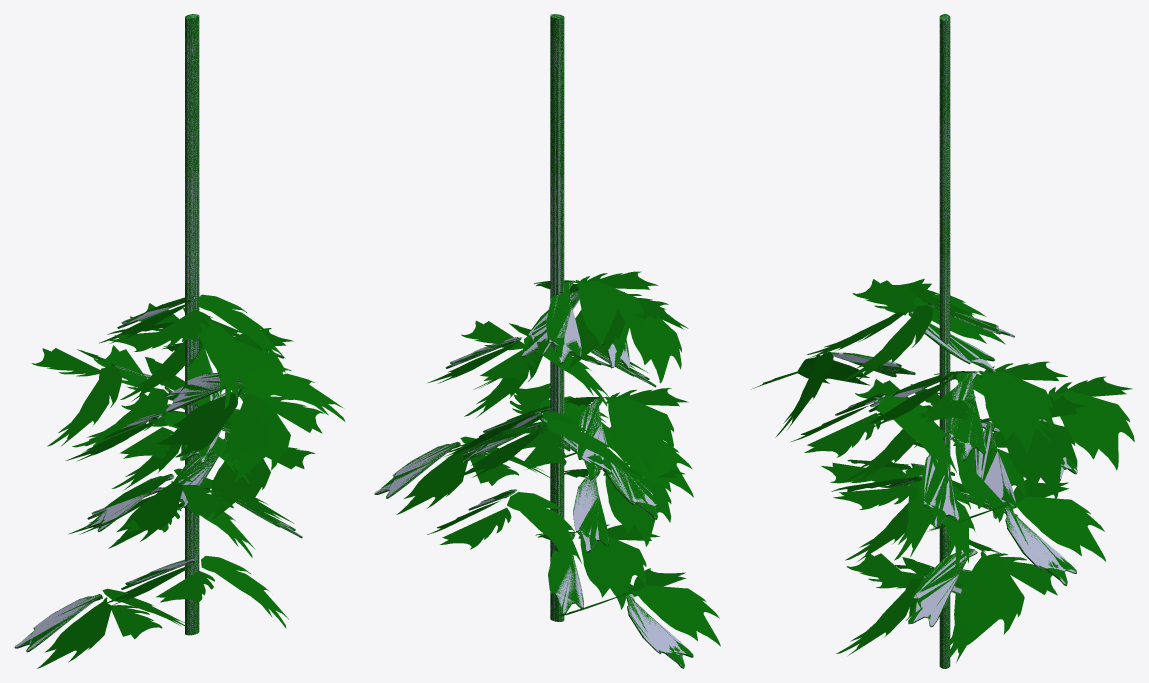
Rendered from rosii_fmici.fbx.
3 views of the same model, side by side, from view 1: azimuth 30°, elevation 25°; view 2: azimuth 150°, elevation 25°; view 3: azimuth 270°, elevation 25° (orthographic). The views are drawn at different scales.
Parts seen in each view (by area): view 1: Group2, Group15, Group5, Group3, Group7, Group10, Group22, Group9, Group8, Group20, Group12, Group11 (+5 smaller); view 2: Group15, Group10, Group11, Group5, Group7, Group13, Group17, Group14, Group8, Group21, Group3, Group2 (+6 smaller); view 3: Group14, Group21, Group15, Group17, Group12, Group8, Group22, Group18, Group10, Group20, Group7, Group9 (+6 smaller).
Boxes of the visible parts, <box> form: Group2: <box>157,367,345,462</box>; Group15: <box>185,14,199,635</box>; Group5: <box>14,588,184,668</box>; Group3: <box>86,468,267,548</box>; Group7: <box>107,556,288,628</box>; Group10: <box>99,294,285,367</box>; Group22: <box>180,385,324,481</box>; Group9: <box>174,437,314,519</box>; Group8: <box>31,348,150,446</box>; Group20: <box>107,318,243,408</box>; Group12: <box>72,345,184,452</box>; Group11: <box>65,412,252,484</box>; Group15: <box>550,14,564,621</box>; Group10: <box>534,271,658,363</box>; Group11: <box>564,388,688,480</box>; Group5: <box>554,568,720,668</box>; Group7: <box>535,524,659,615</box>; Group13: <box>564,463,684,552</box>; Group17: <box>374,436,550,514</box>; Group14: <box>427,489,581,573</box>; Group8: <box>453,420,637,481</box>; Group21: <box>428,335,609,406</box>; Group3: <box>527,427,693,519</box>; Group2: <box>569,281,688,383</box>; Group14: <box>908,539,1057,645</box>; Group21: <box>934,361,1067,460</box>; Group15: <box>939,14,950,668</box>; Group17: <box>927,479,1105,585</box>; Group12: <box>973,391,1086,518</box>; Group8: <box>1039,376,1134,481</box>; Group22: <box>790,393,957,483</box>; Group18: <box>913,431,1025,528</box>; Group10: <box>842,279,1014,382</box>; Group20: <box>807,278,1005,372</box>; Group7: <box>836,553,963,655</box>; Group9: <box>831,474,975,569</box>.
Size of the model in its own units: 24.89 by 50.5 by 27.24.
